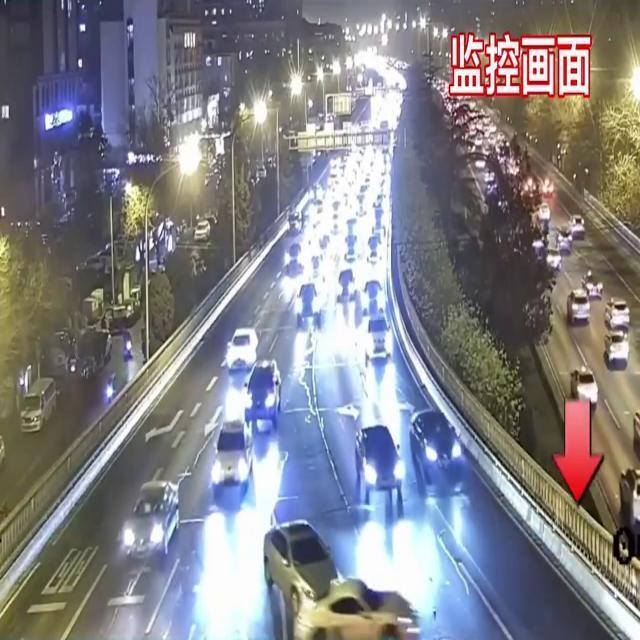accident: (263, 518, 423, 640)
non-accident: (210, 326, 282, 488), (354, 407, 464, 507), (284, 212, 362, 328), (361, 280, 394, 368), (566, 269, 602, 327), (603, 297, 631, 369), (554, 214, 586, 256), (367, 207, 388, 265)
